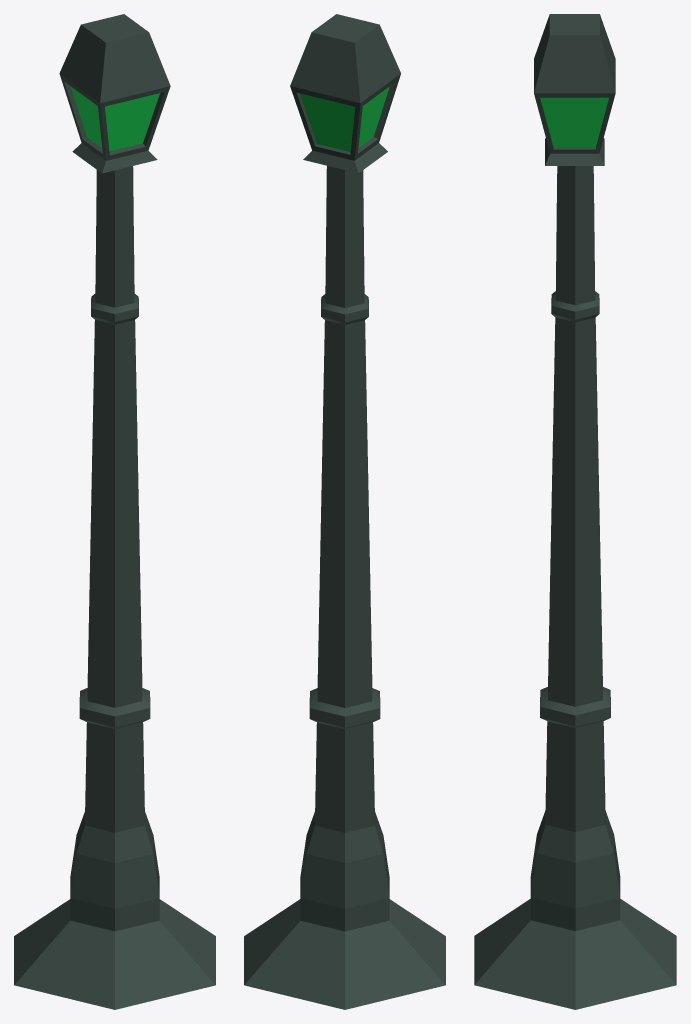
The model's file is lamp.fbx.
3 renders of one model, left to right at view 1: azimuth 30°, elevation 25°; view 2: azimuth 150°, elevation 25°; view 3: azimuth 270°, elevation 25°, orthographic.
Parts seen in each view (by area): view 1: pCylinder8, pCube107; view 2: pCylinder8, pCube107; view 3: pCylinder8, pCube107.
Boxes of the visible parts, bbox=[...] form: pCylinder8: bbox=[14, 166, 215, 1009]; pCube107: bbox=[59, 14, 170, 173]; pCylinder8: bbox=[244, 166, 445, 1009]; pCube107: bbox=[290, 14, 400, 173]; pCylinder8: bbox=[474, 166, 676, 1009]; pCube107: bbox=[534, 14, 615, 165].
Size of what is drawn, in the model's own units: 0.6084 by 2.69 by 0.5269.
